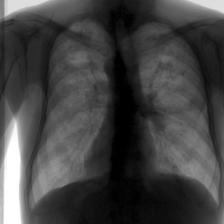tuberculosis: (23, 12, 224, 224)
